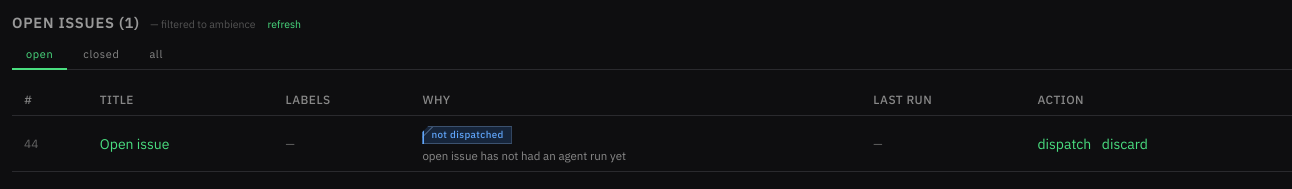
Test: IssuesView › can switch the project issue list to closed issues
The width and height of the screenshot is (1292, 189).
Expected: the link "Open issue" is shown, [100, 135, 170, 153]
What coordinates should you click on to do the following:
click the button "closed"
I would click on:
 (101, 55)
Its box is [69, 40, 133, 70].
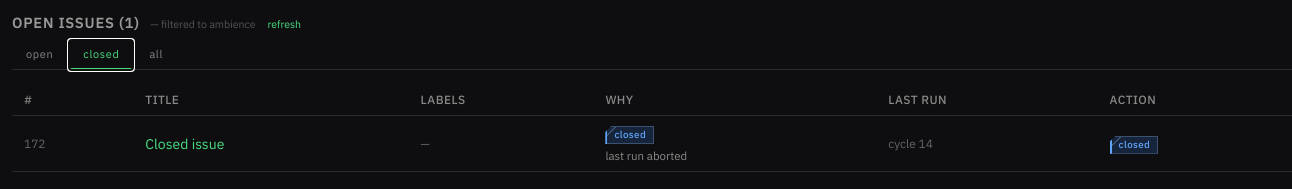
Now the link "Closed issue" is shown, box [145, 135, 224, 153]
Now the text "dispatch" is gone
